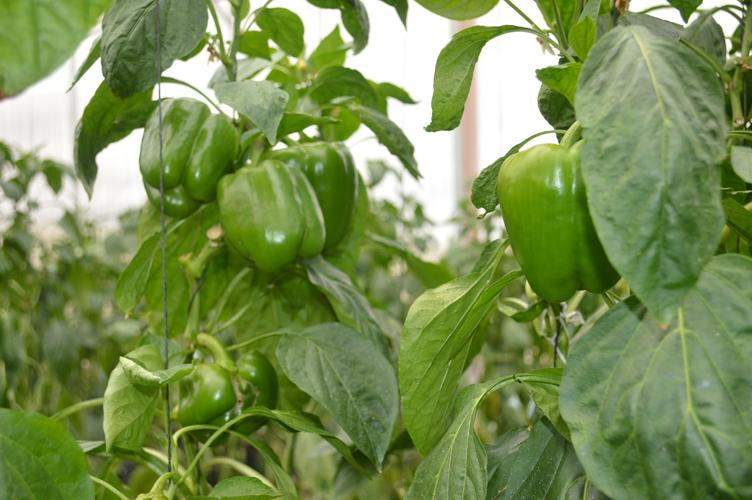BellPepper: (495, 142, 616, 297), (214, 161, 320, 266), (138, 99, 227, 213), (165, 350, 275, 435), (273, 142, 359, 247)
